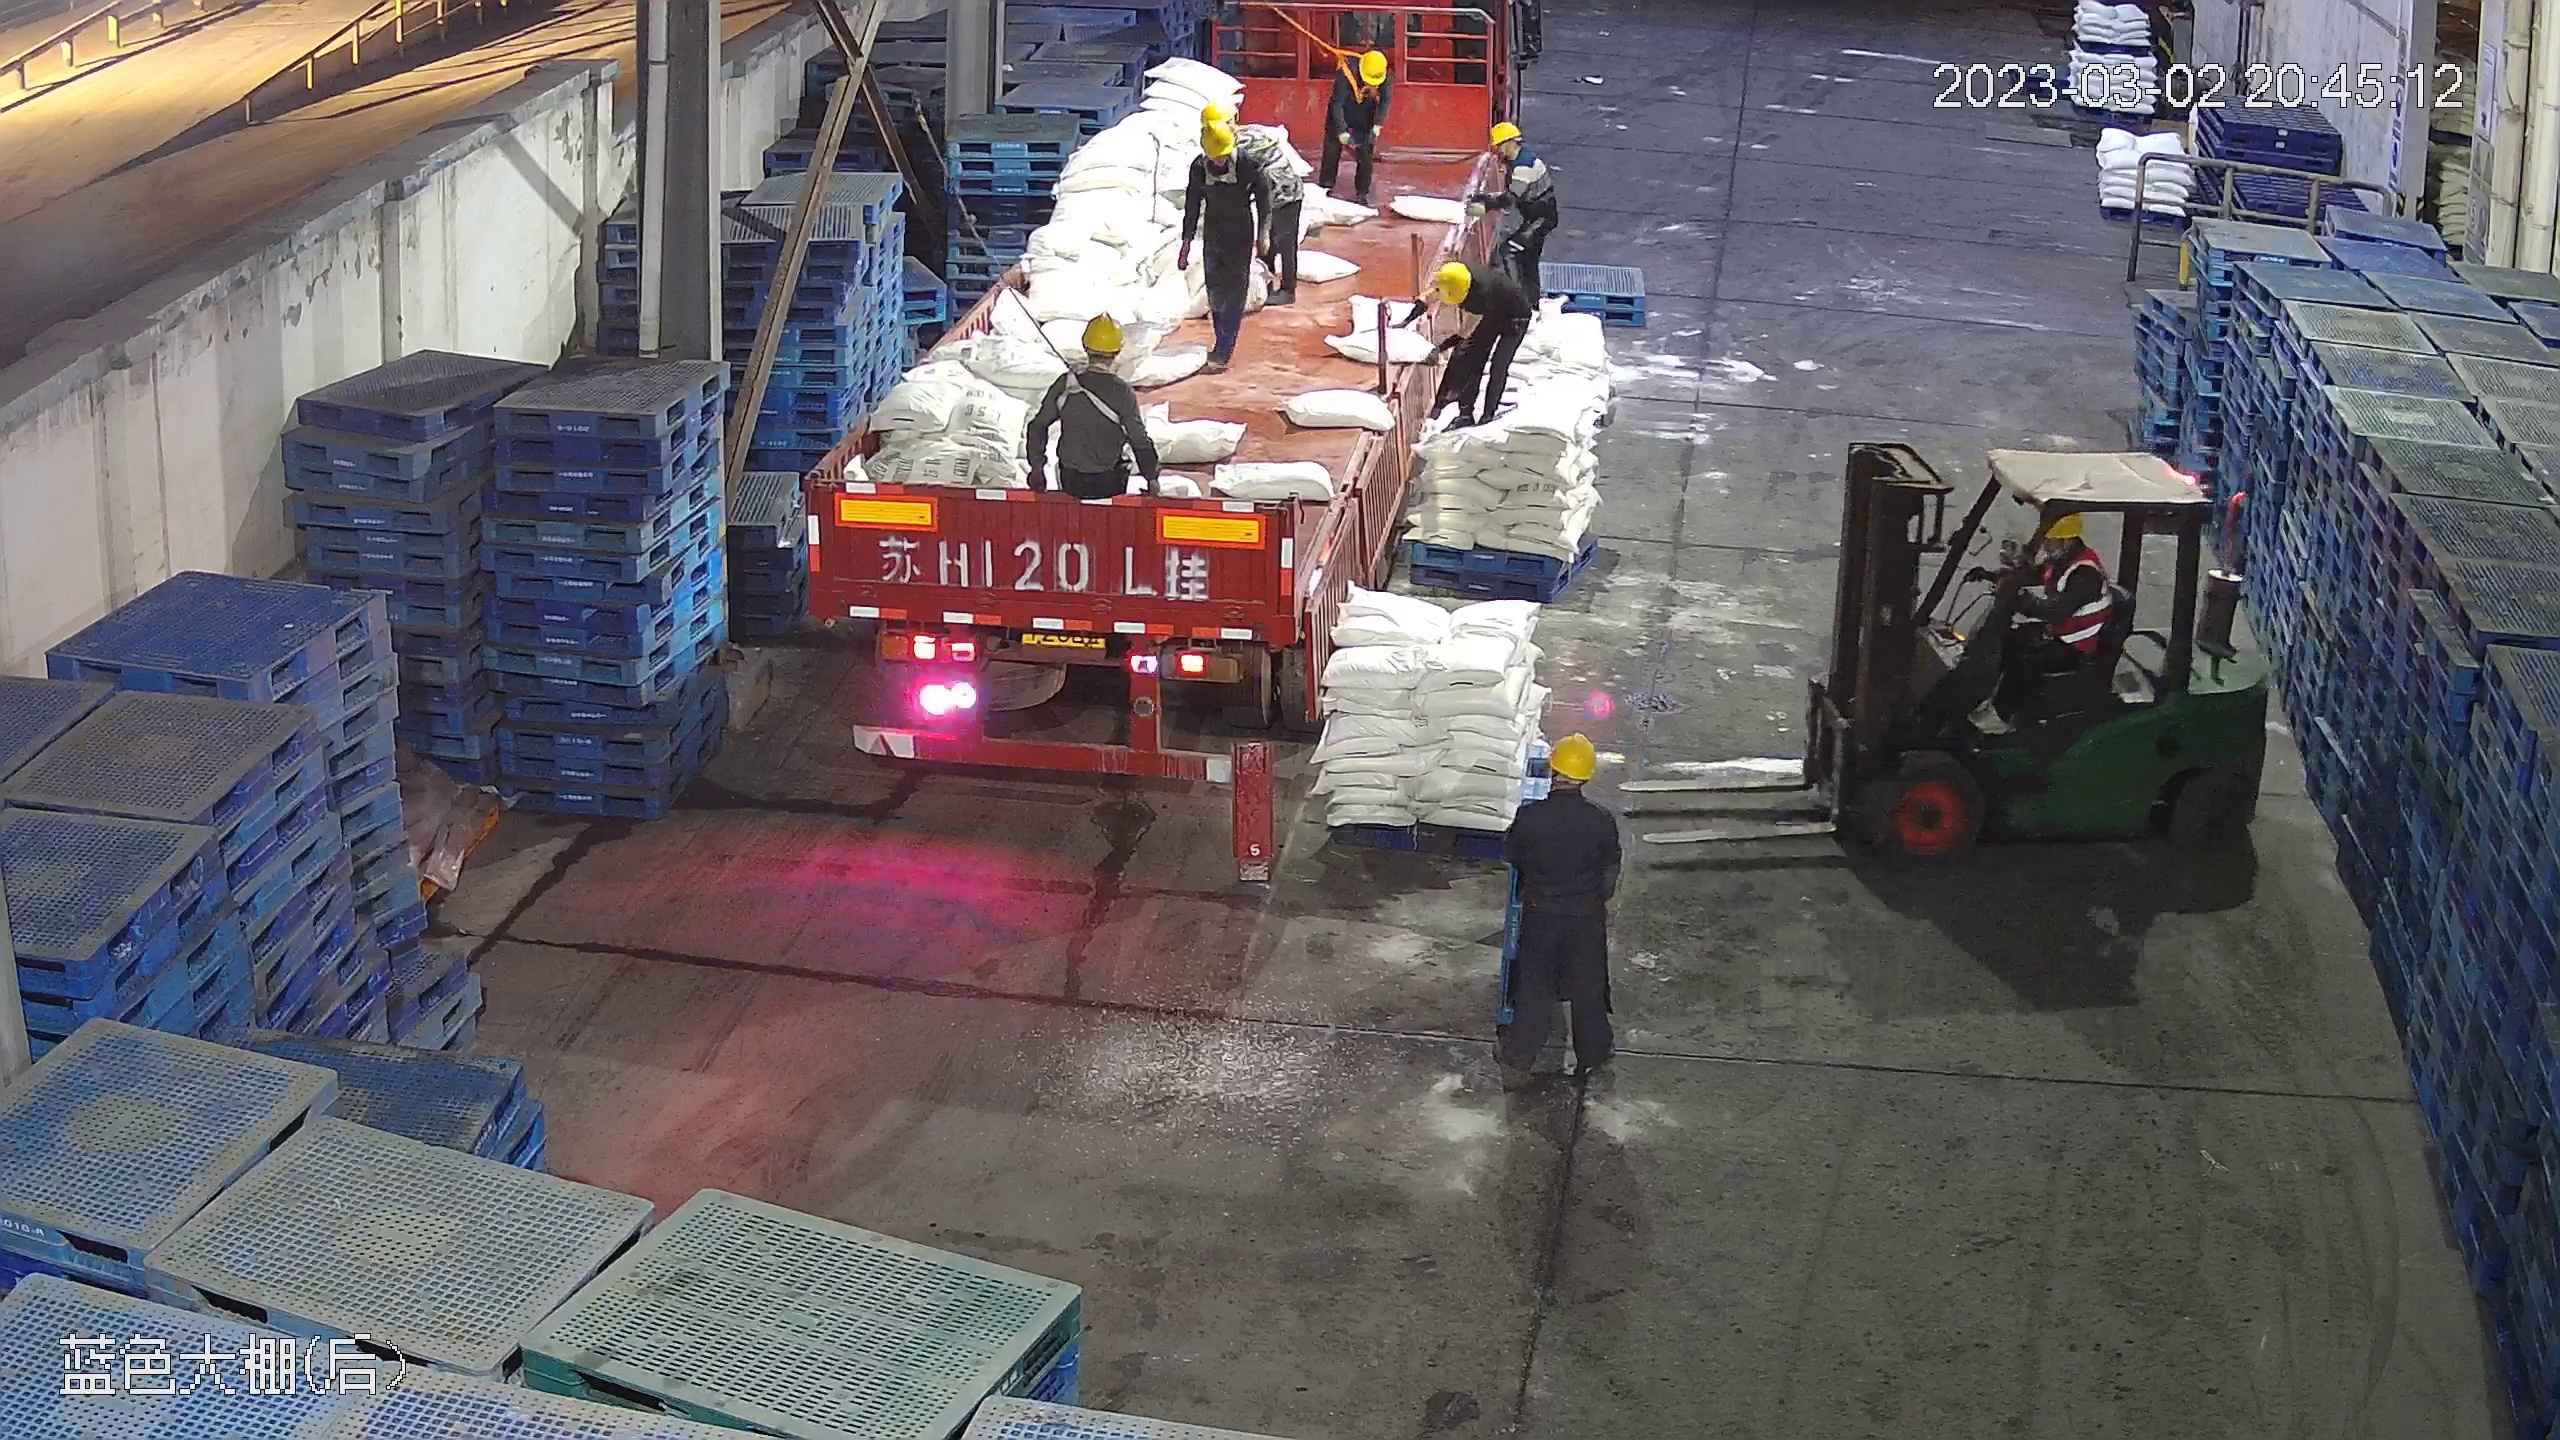belt: (1044, 363, 1128, 437), (1194, 142, 1256, 196), (1328, 48, 1382, 104), (1236, 127, 1291, 173)
head: (1510, 728, 1620, 853), (1043, 312, 1145, 411), (2026, 505, 2110, 602), (1185, 106, 1270, 193), (1476, 120, 1547, 194), (1427, 258, 1504, 327), (1324, 45, 1391, 105)
helmet: (1545, 729, 1601, 780), (1076, 312, 1128, 355), (1197, 119, 1239, 160), (1433, 260, 1472, 305), (2036, 511, 2086, 542), (1354, 48, 1388, 87), (1198, 101, 1235, 127), (1487, 120, 1521, 145)
people: (1493, 724, 1624, 1099), (1967, 504, 2115, 735), (1028, 319, 1163, 562), (1173, 102, 1282, 363), (1465, 120, 1558, 328), (1416, 259, 1524, 431), (1320, 42, 1396, 210)
truck: (819, 21, 1530, 812)
